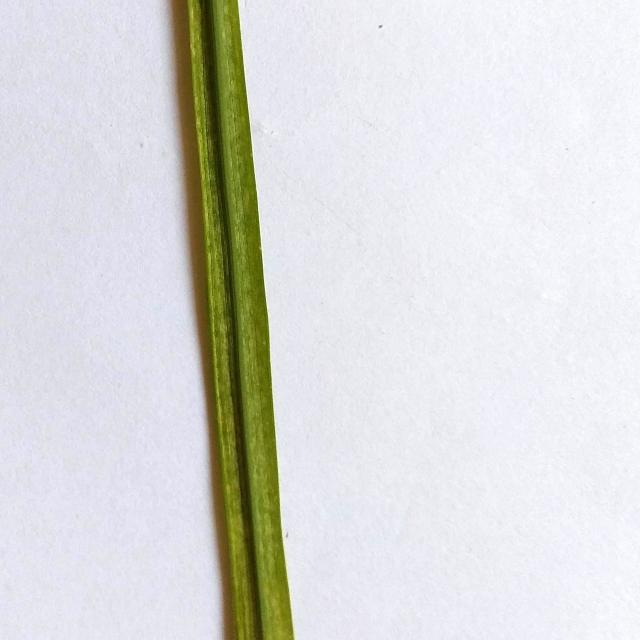Rice_Healthy: (188, 0, 294, 640)
